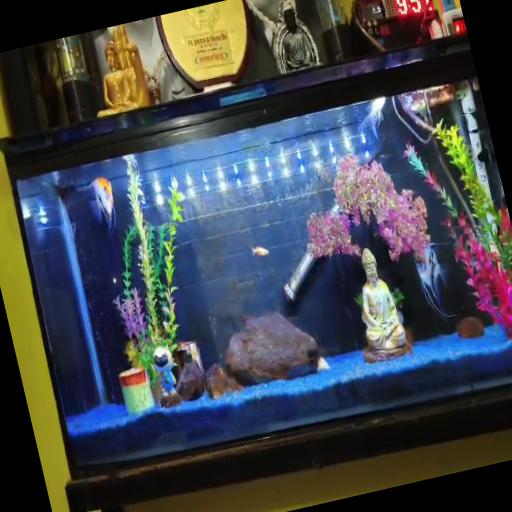Fish: (415, 243, 455, 319), (78, 177, 116, 231), (358, 97, 386, 140), (251, 247, 269, 257)
